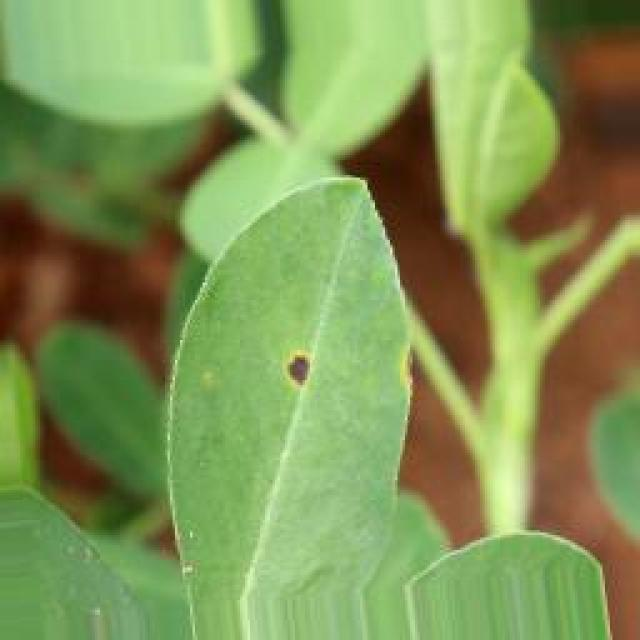Sigatoka: (263, 332, 345, 420)
